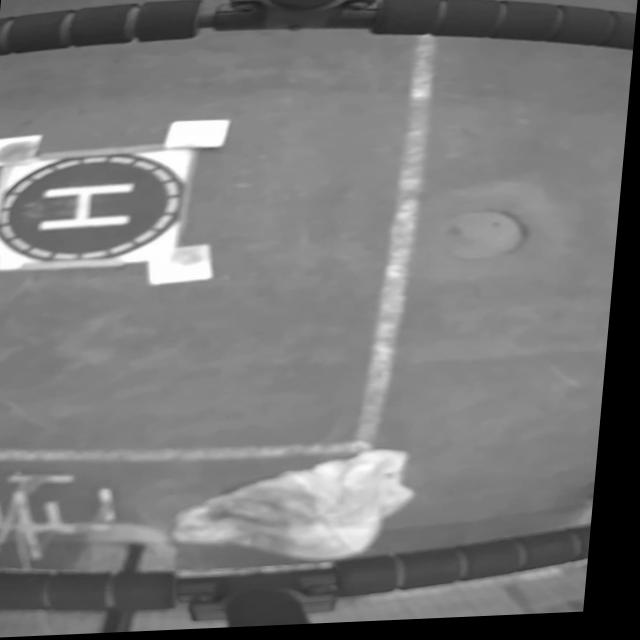Helipad: (41, 185, 138, 232)
